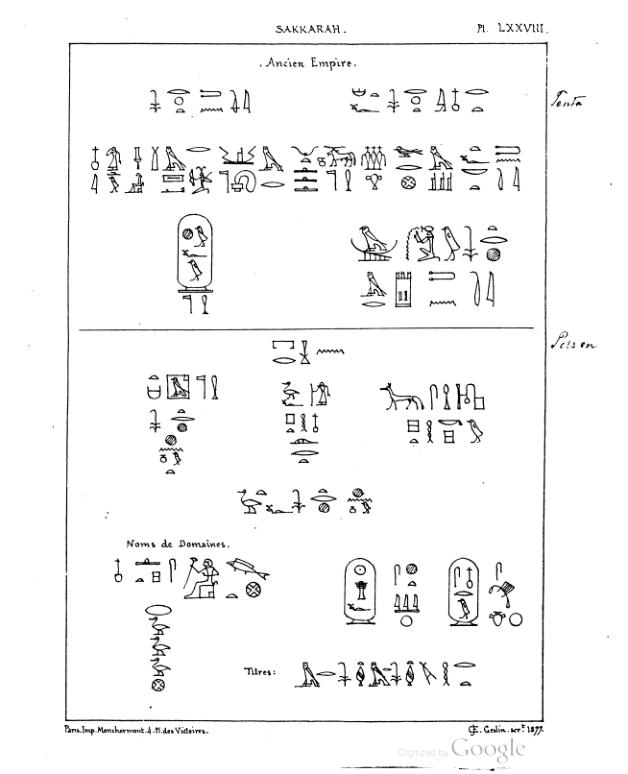circle: (171, 209, 219, 295), (441, 552, 483, 630), (342, 555, 379, 630)
